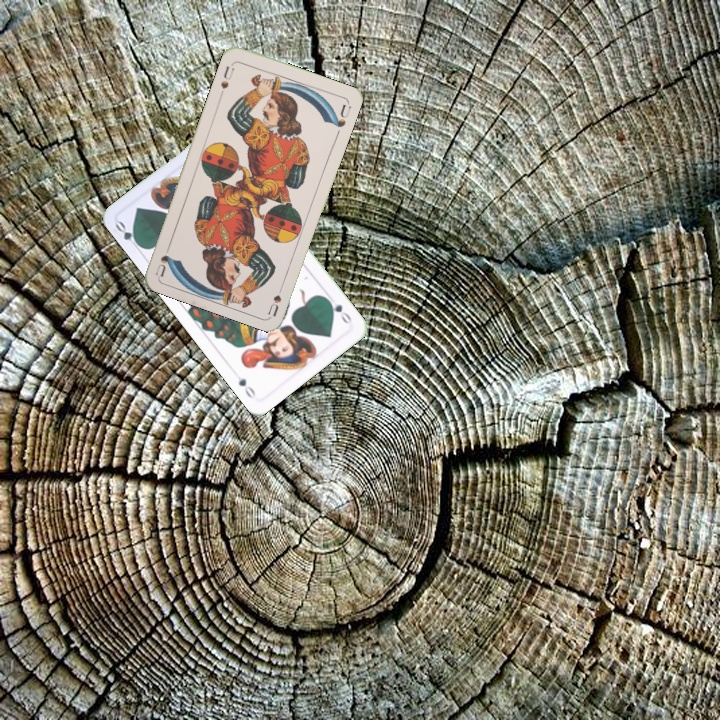GO: (111, 217, 144, 253), (323, 295, 354, 326)
SU: (264, 277, 287, 318), (216, 59, 237, 98)
